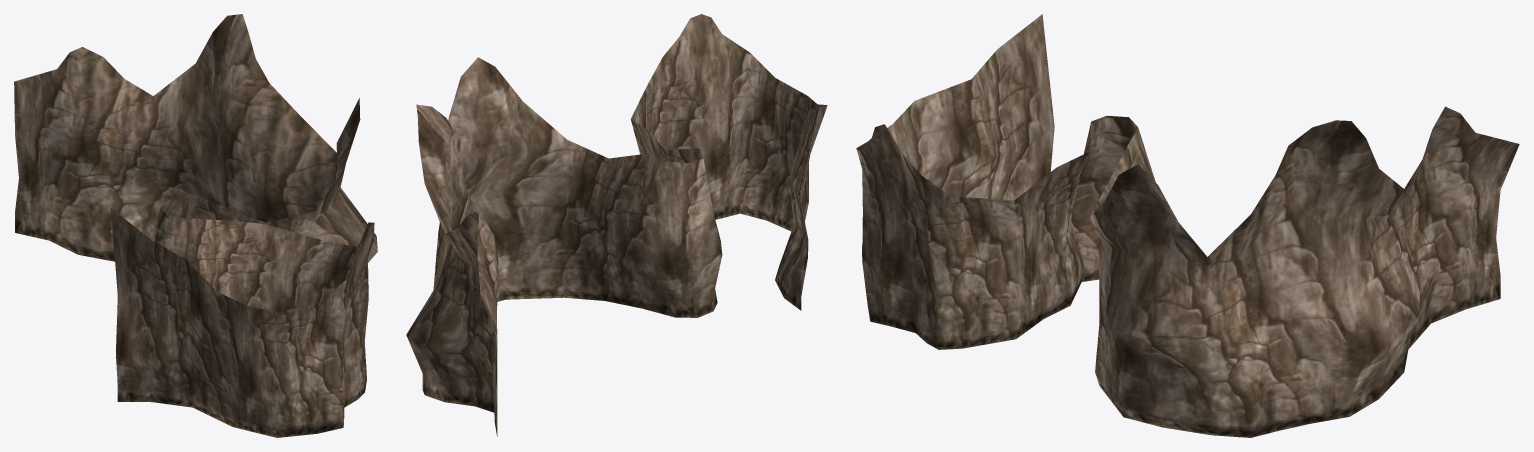
The model's file is OVERHILL_A_01_OBJECT18.fbx.
3 views of the same model, side by side, from view 1: azimuth 30°, elevation 25°; view 2: azimuth 150°, elevation 25°; view 3: azimuth 270°, elevation 25° (orthographic). The views are drawn at different scales.
Parts seen in each view (by area): view 1: OVERHILL_A_01_OBJECT18; view 2: OVERHILL_A_01_OBJECT18; view 3: OVERHILL_A_01_OBJECT18.
Part boxes in pixels (bbox=[...]): OVERHILL_A_01_OBJECT18: bbox=[14, 14, 377, 437]; OVERHILL_A_01_OBJECT18: bbox=[406, 14, 827, 436]; OVERHILL_A_01_OBJECT18: bbox=[856, 14, 1519, 437].
Size of the model in its own units: 147597 by 125022 by 243011.
Materials: 2 (2 with a texture image).
